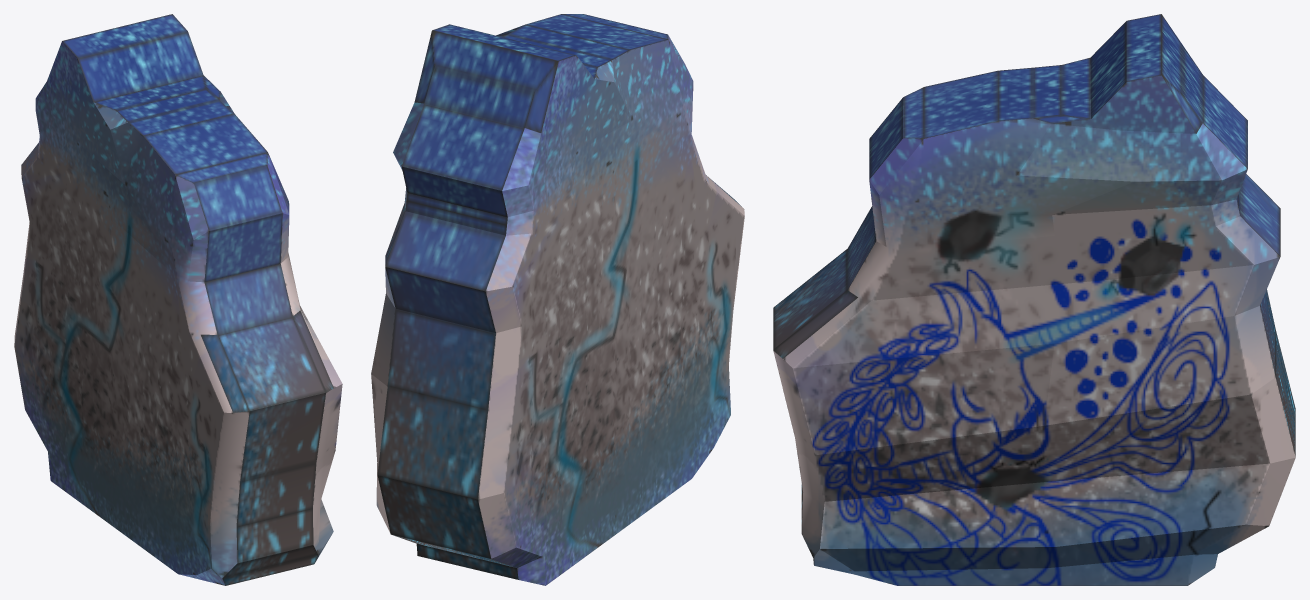
The model's file is unicornSTONE.fbx.
The picture shows the model from 3 angles, left to right: view 1: azimuth 30°, elevation 25°; view 2: azimuth 150°, elevation 25°; view 3: azimuth 270°, elevation 25°; orthographic projection. The views are drawn at different scales.
Parts seen in each view (by area): view 1: pCube2; view 2: pCube2; view 3: pCube2.
Boxes of the visible parts, bbox=[...] form: pCube2: bbox=[14, 14, 342, 585]; pCube2: bbox=[371, 14, 744, 585]; pCube2: bbox=[773, 14, 1295, 585].
Bounding box in the file's own units: 1.8 × 5.85 × 5.43.
1 material, 1 textured.
